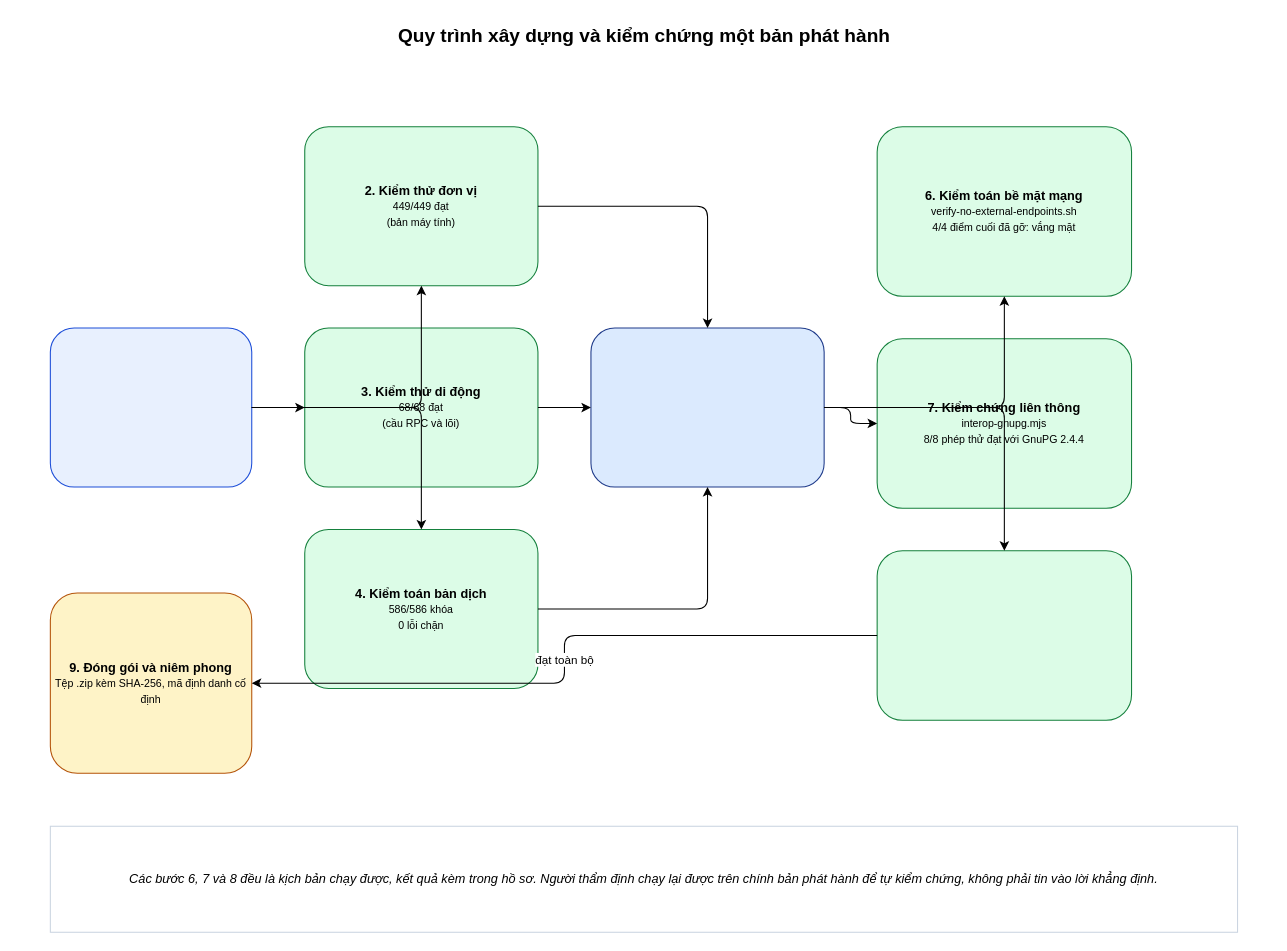
This 1287x951 diagram has some shape labels left out. Each missing label, with the box of its shape:
1. Mã nguồn Git, lịch sử đầy đủ, không chứa bí mật: (49, 327, 252, 487)
5. Biên dịch bản phát hành grunt prod webpack, rút gọn mã: (590, 327, 824, 487)
8. Đo hiệu năng benchmark-crypto.mjs Số liệu tại Phụ lục kỹ thuật: (876, 550, 1132, 720)
